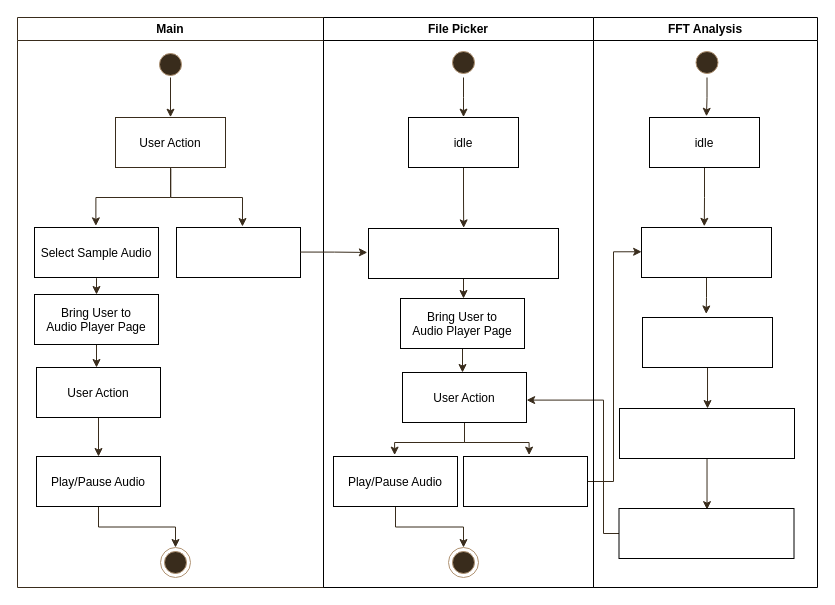
Image size: 835x605. Some labels were removed from this diagram. The centre of each missing label's shape, as x and y in pixels:
"Check Audio Format" belongs at [706,252].
"Check for Audio Input" belongs at [463,253].
"Return Alert Dialog Presenting frequency of note" belongs at [706,433].
"Run Note Analysis" belongs at [525,481].
"Run STFT on Audio Sample" belongs at [707,342].
"Upload Own Audio" belongs at [238,252].
"User closes Dialog Box" belongs at [706,533].
